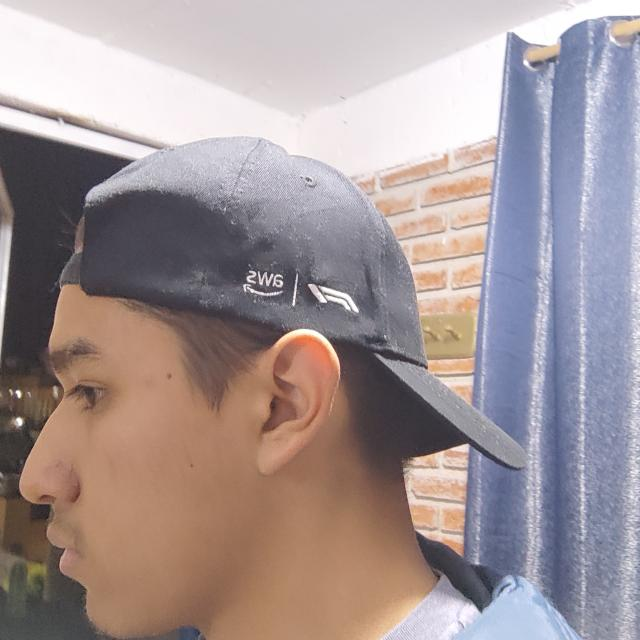ear: (254, 330, 341, 475)
